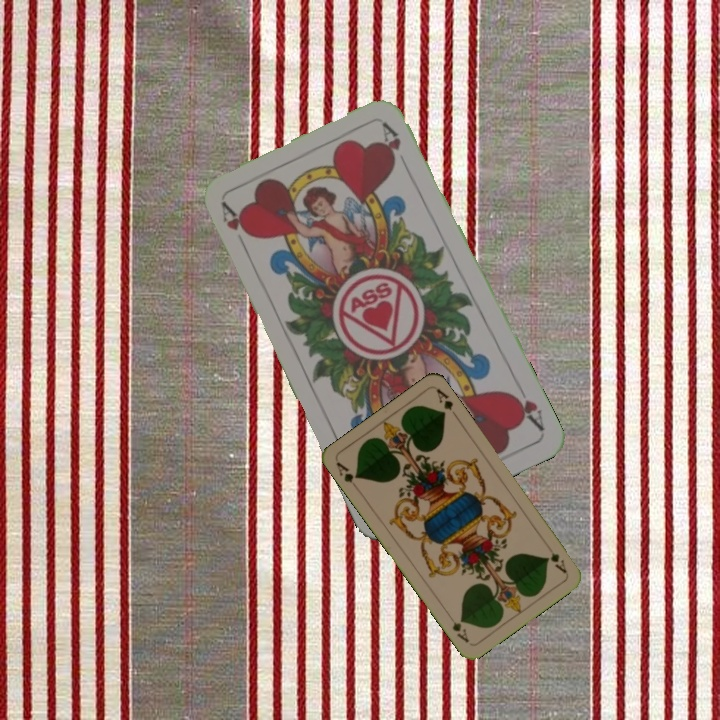GA: (543, 540, 569, 576), (332, 458, 362, 486)
HA: (217, 199, 253, 255), (505, 387, 547, 434)
